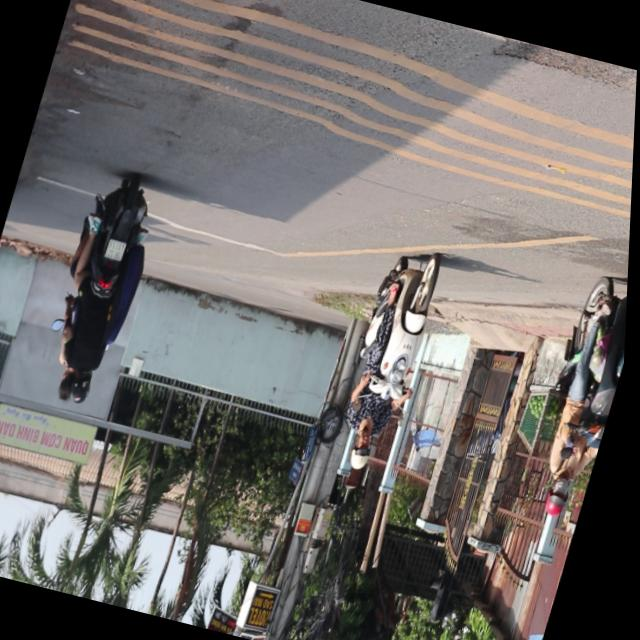helmet: (546, 474, 580, 520), (351, 427, 383, 473), (71, 370, 99, 408)
licenseplate: (34, 168, 172, 417), (327, 242, 455, 482), (521, 257, 631, 524)
motorcyclist: (58, 368, 83, 408)
nohelmet: (106, 240, 128, 264)
